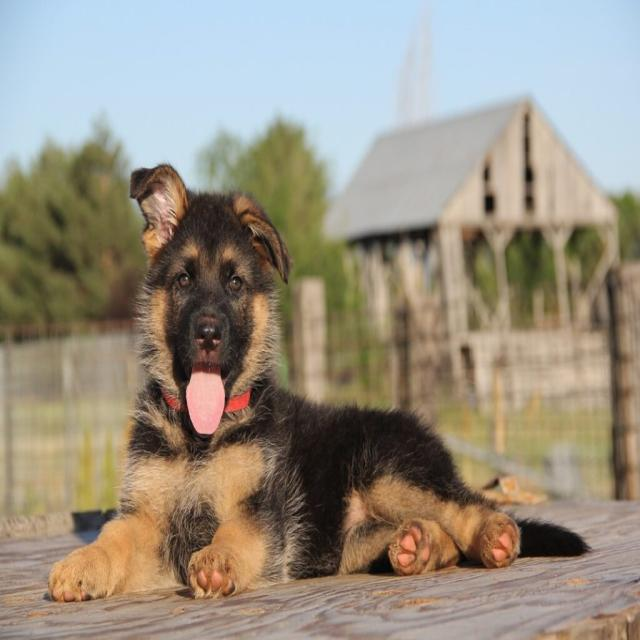GERMAN_SHEPHERD: (31, 153, 592, 612)
